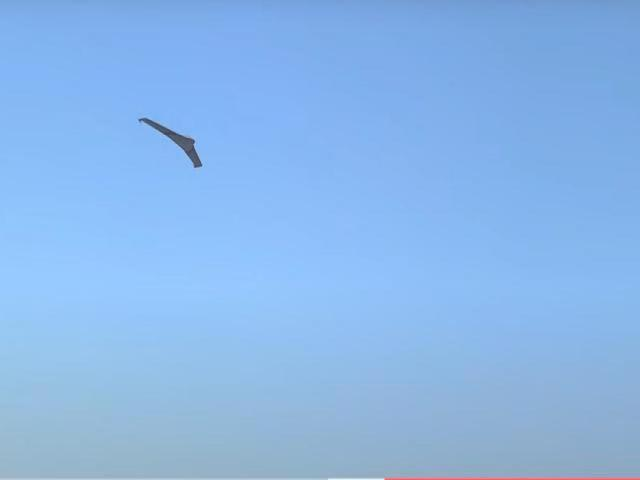iha: (133, 113, 204, 172)
